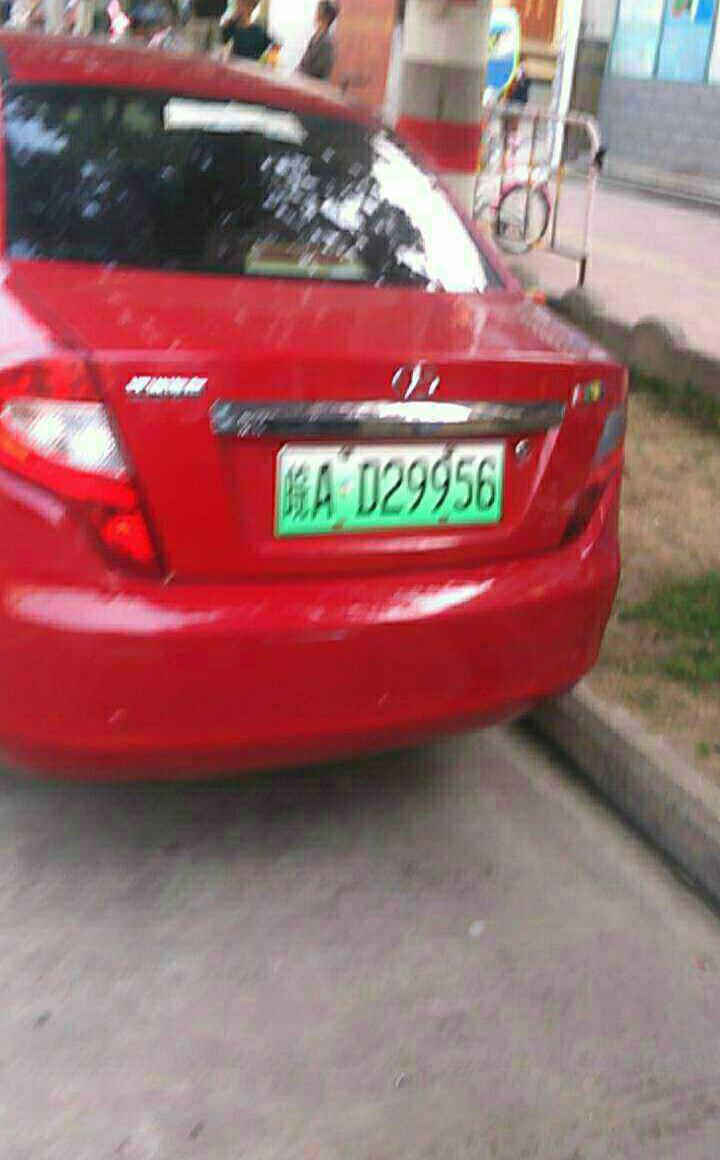car: (265, 444, 524, 532)
